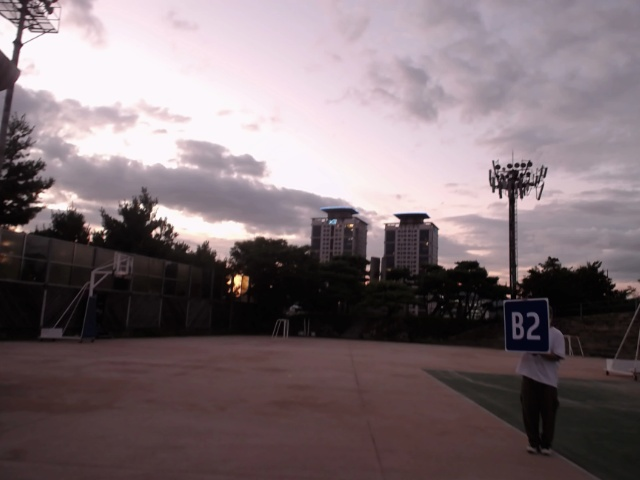delivery_b2: (502, 299, 551, 354)
